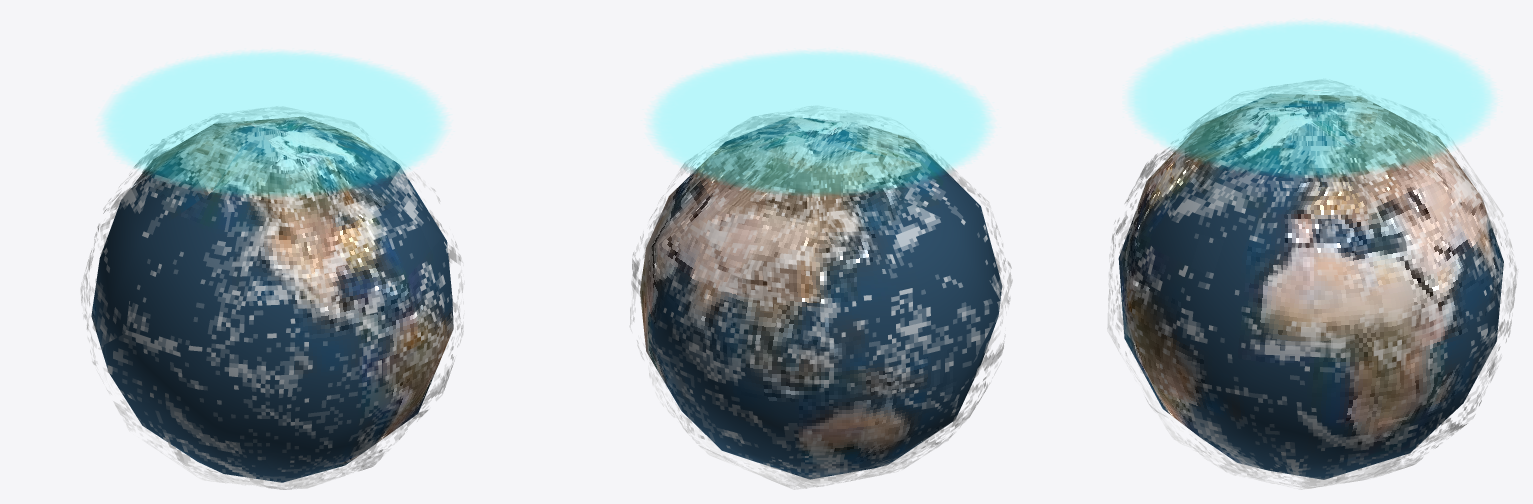
The model's file is earth.glb.
The picture shows the model from 3 angles, left to right: view 1: azimuth 30°, elevation 25°; view 2: azimuth 150°, elevation 25°; view 3: azimuth 270°, elevation 25°; orthographic projection. The views are drawn at different scales.
Visible parts, largest first — view 1: earth, clouds, atmosphere; view 2: earth, clouds, atmosphere; view 3: earth, clouds, atmosphere.
Boxes of the visible parts, x1,y1,x2,y2 form: earth: (91, 116, 453, 482); clouds: (80, 106, 464, 489); atmosphere: (105, 52, 443, 195); earth: (640, 117, 1002, 479); clouds: (629, 105, 1012, 489); atmosphere: (652, 52, 988, 193); earth: (1118, 93, 1503, 479); clouds: (1107, 78, 1518, 489); atmosphere: (1131, 23, 1490, 174).
Size of the model in its own units: 6.86 by 6.96 by 6.96.
Materials: 3 (3 with a texture image).
